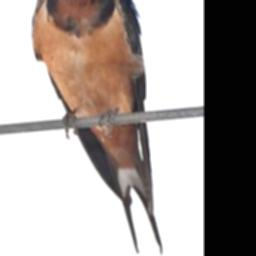Swallow: (29, 0, 165, 256)
